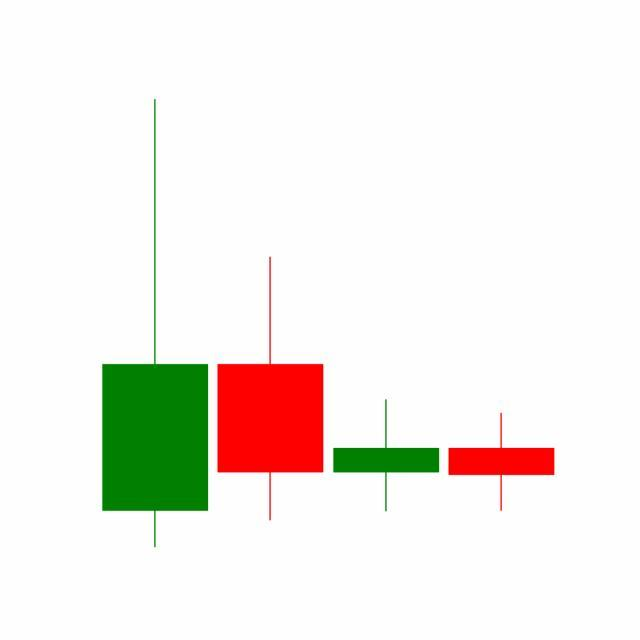Spinning Top: (329, 398, 445, 514)
